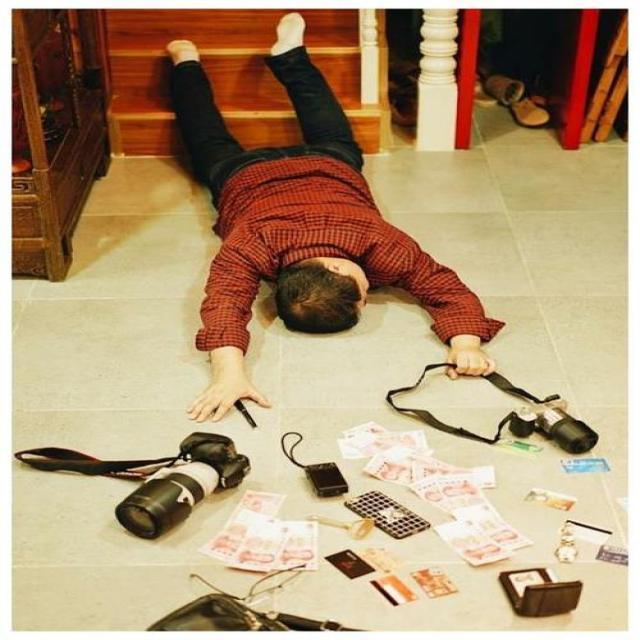fall: (151, 28, 495, 384)
